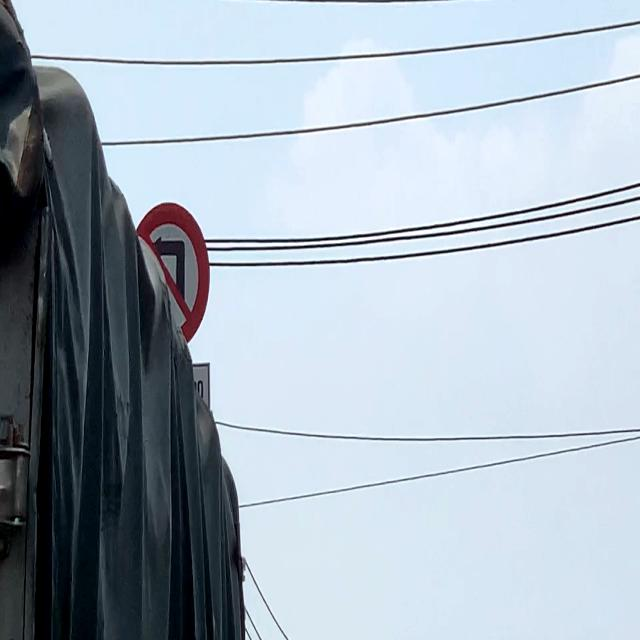P.123a: (126, 200, 211, 360)
